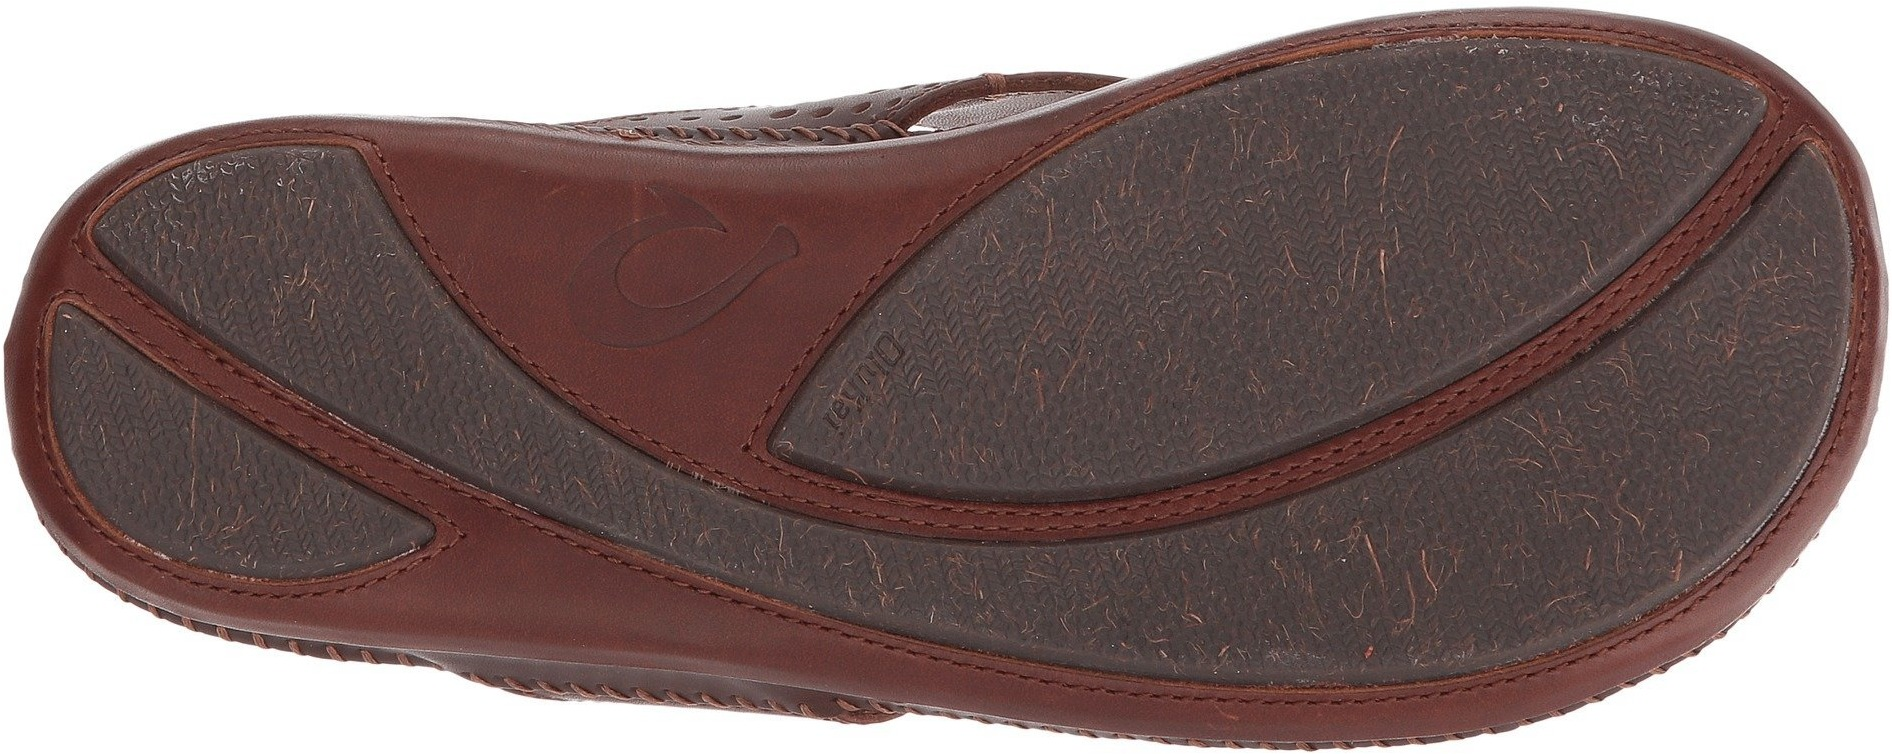other: (1146, 109, 1421, 373), (1464, 407, 1670, 597), (944, 285, 1144, 479), (1433, 55, 1633, 244), (208, 166, 373, 318), (675, 479, 807, 604), (1076, 540, 1205, 665), (136, 422, 256, 537), (457, 179, 577, 290), (494, 397, 605, 510), (646, 345, 751, 442), (462, 542, 563, 636)
ribbon: (1622, 138, 1780, 298), (1396, 316, 1557, 468), (904, 448, 1055, 581), (276, 376, 422, 514), (1211, 415, 1351, 553), (130, 292, 265, 425)
